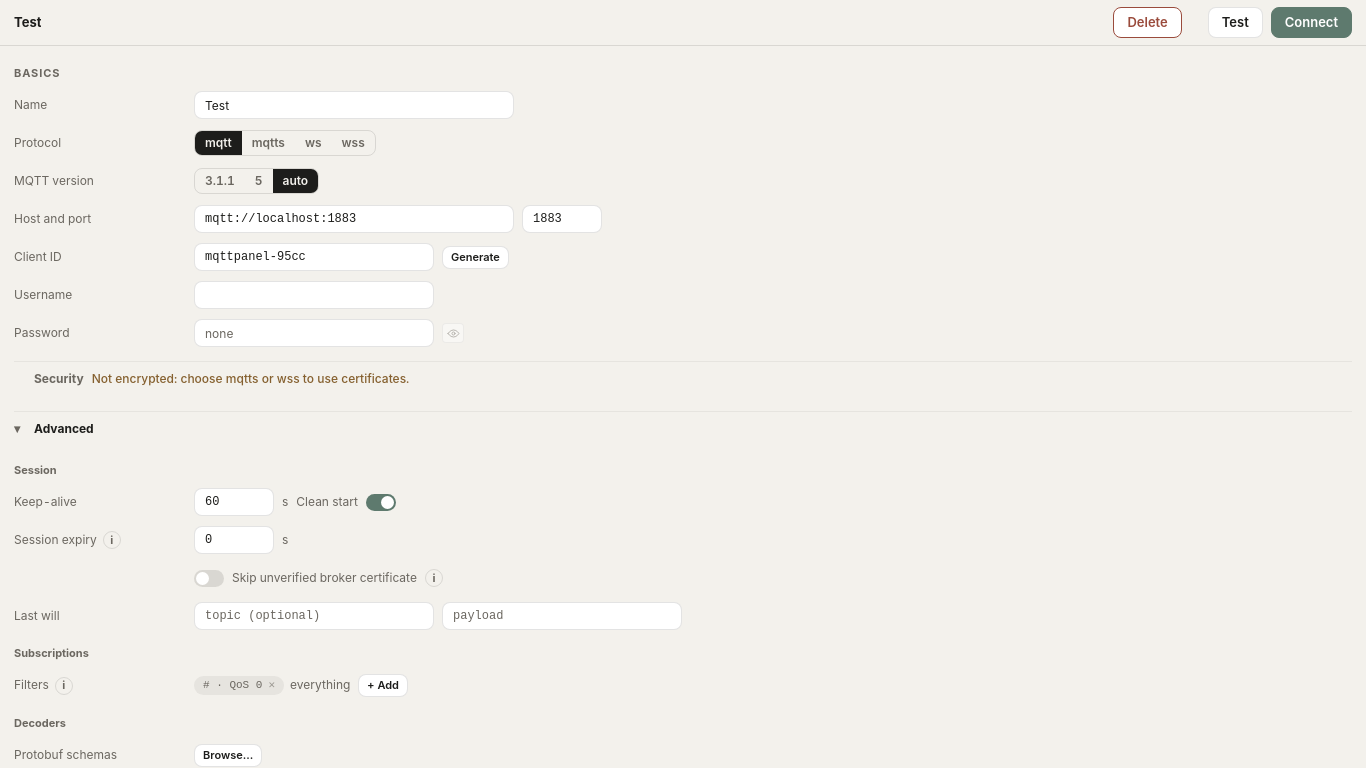
Connections form (C-08) › starts with "# · QoS 0" meaning everything, and warns when the last chip is removed
Expected: the number of elements with test id "sub-chip" is 1, 194,676 -> 284,695
Expected: the element with test id "sub-chip" shows "# · QoS 0", 194,676 -> 284,695
Click the button with test id "sub-remove".
click(272, 686)  # box 268,678 -> 275,693
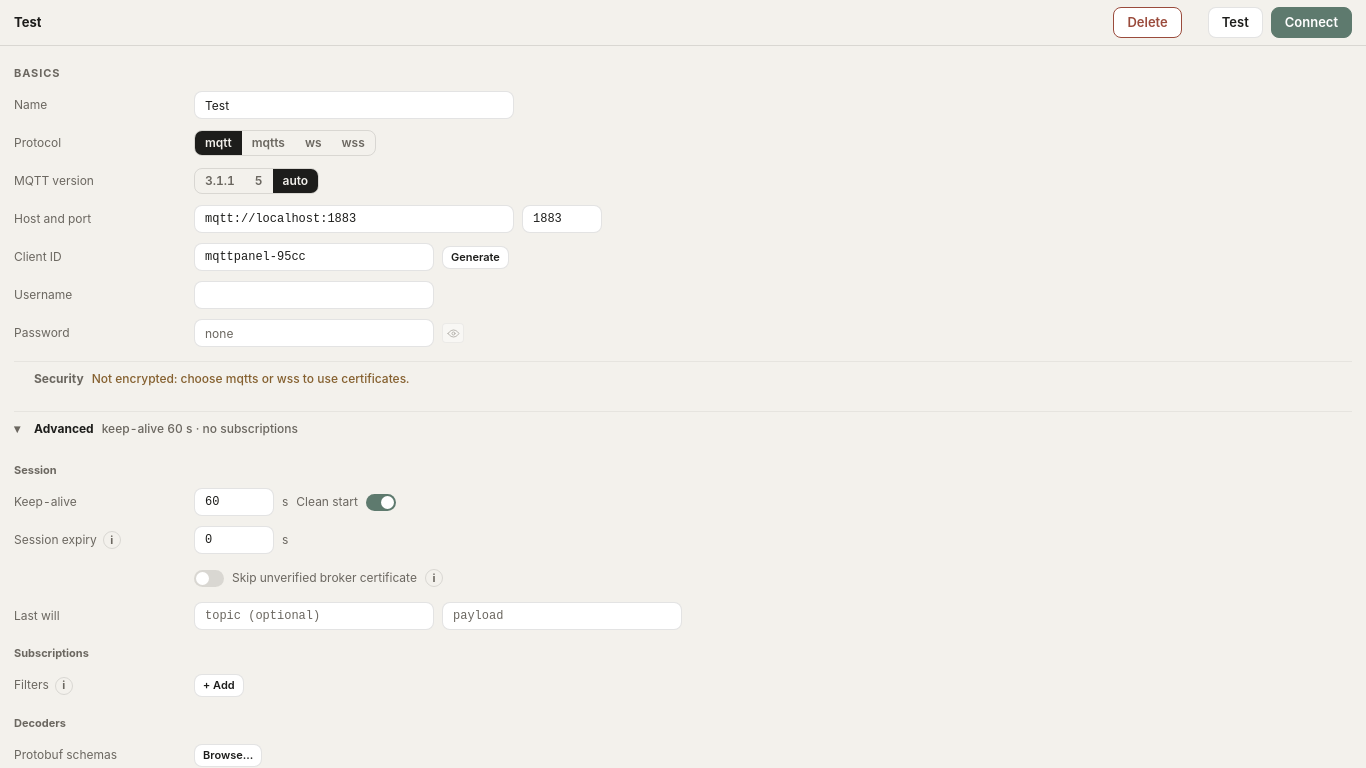
Now no elements with test id "sub-chip" are shown
# the notice stays visible with the Advanced fold closed, and the summary says it
Click the button with test id "fold-advanced".
click(64, 429)  # box 14,411 -> 1352,447
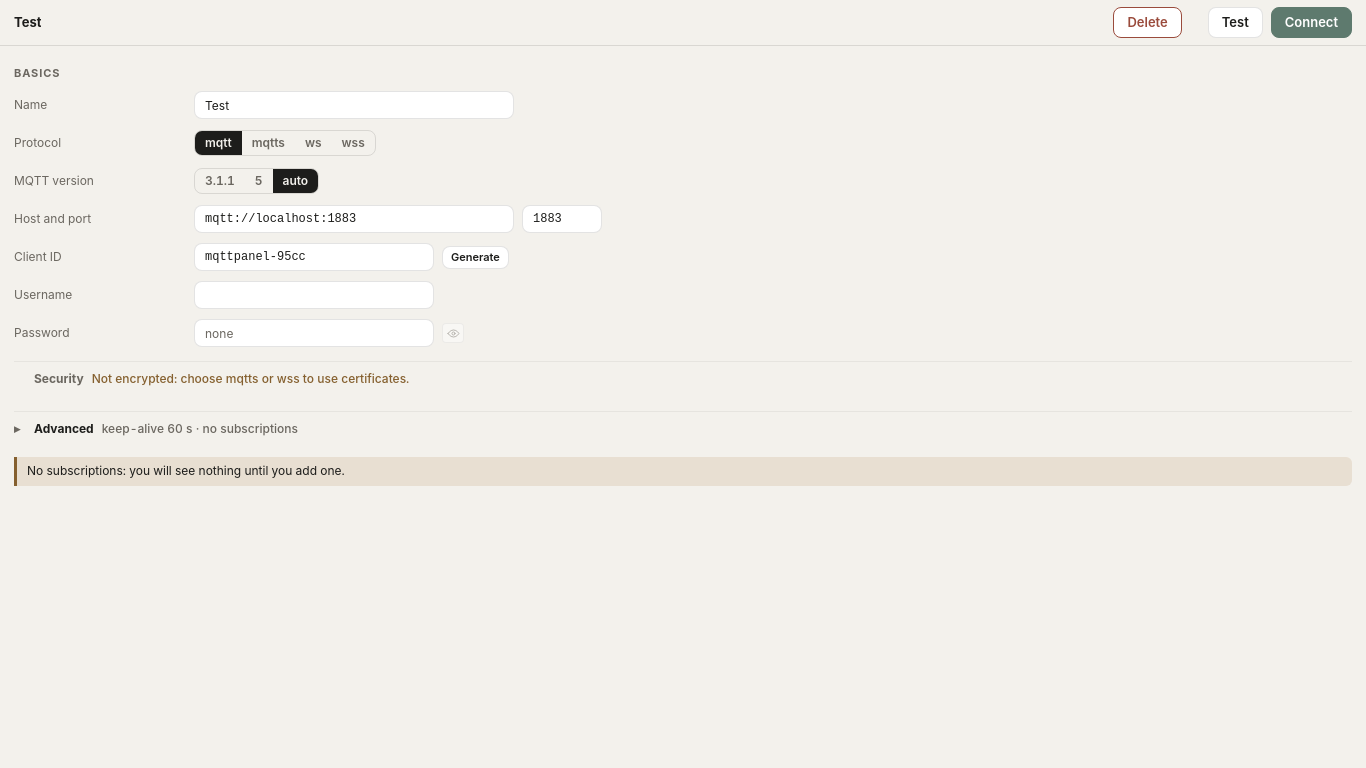
Now the text "No subscriptions: you will see nothing until you add one." is shown, box 14,457 -> 1352,486
Now the text with test id "fold-advanced-summary" reads "keep-alive 60 s · no subscriptions", box 102,421 -> 298,436
Now the element with test id "subscriptions" is gone
